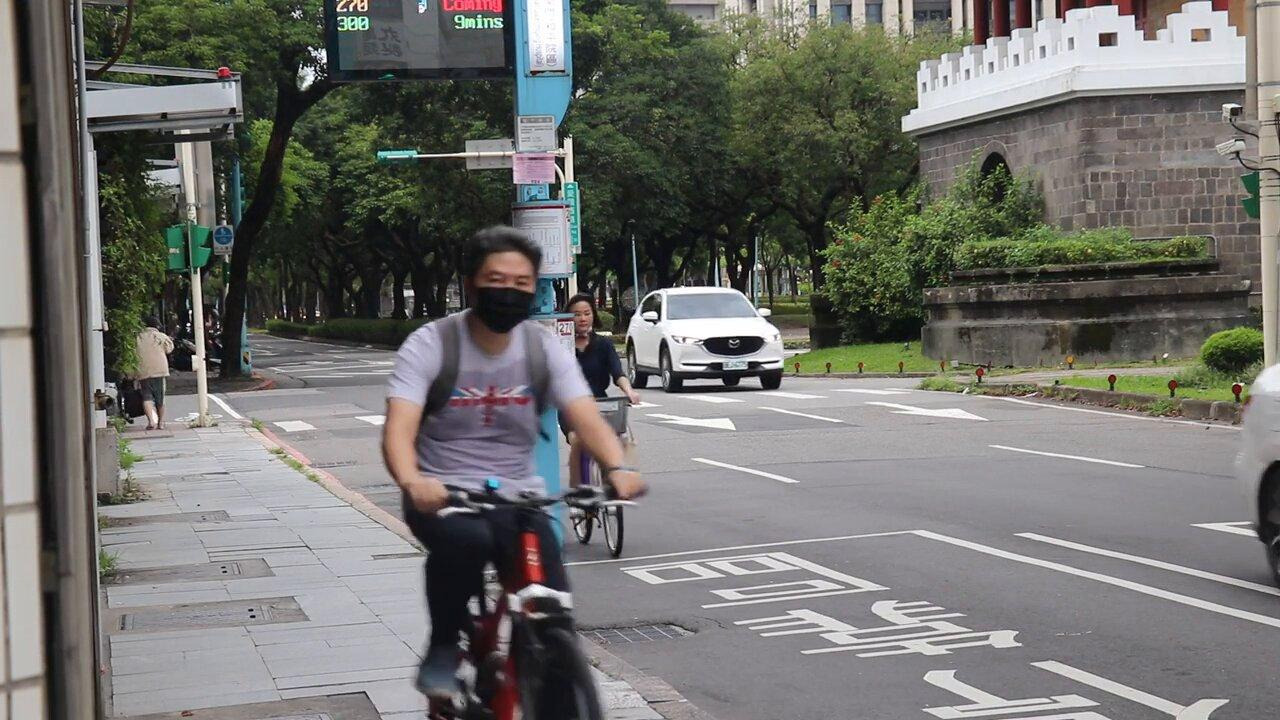bicyclist: (381, 223, 653, 720), (564, 294, 642, 558)
no-helmet: (460, 225, 544, 335), (567, 294, 598, 337)
